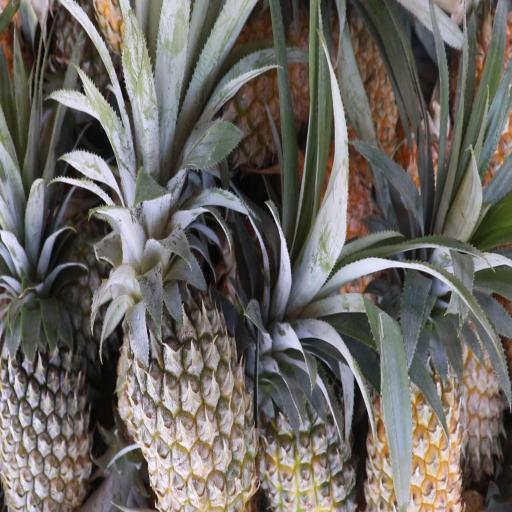Pineapple - v8 v1: (367, 293, 467, 512)
